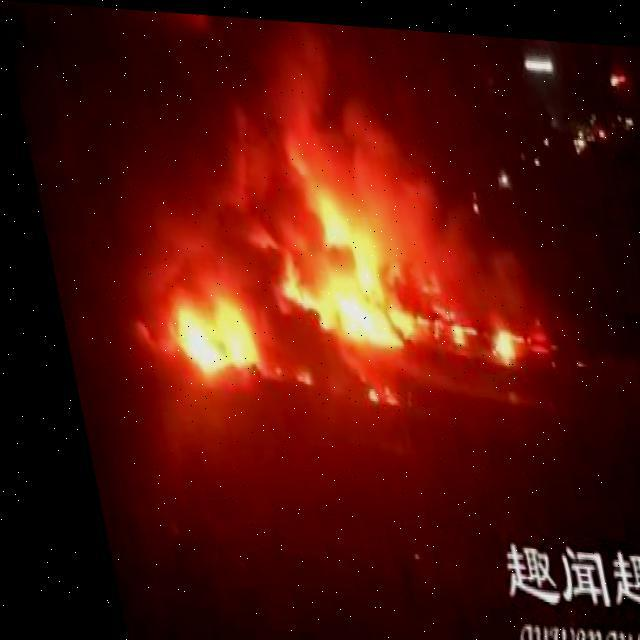Fire: (255, 164, 401, 346), (149, 274, 249, 380), (465, 312, 511, 362)
